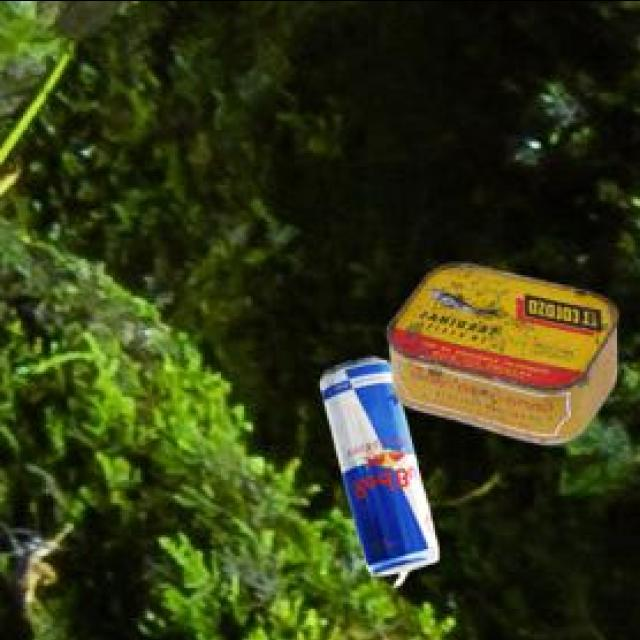logam: (390, 266, 620, 448), (323, 360, 441, 591)
